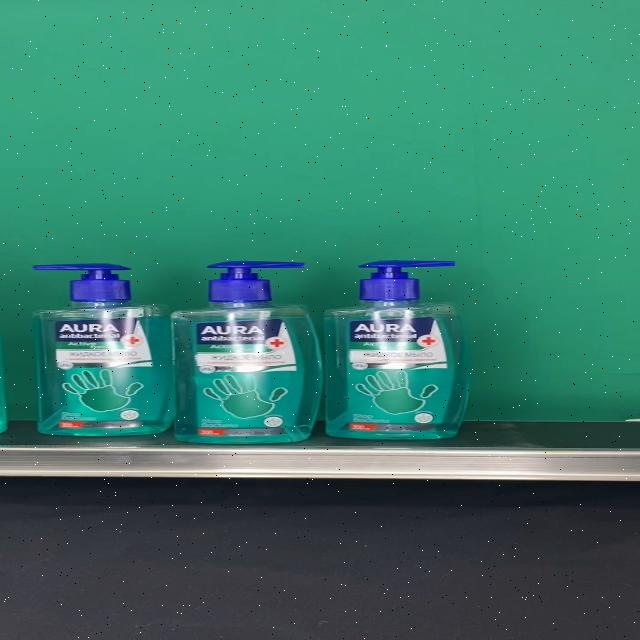Bottle: (172, 259, 324, 444), (322, 259, 471, 440), (30, 264, 179, 434)
Cap: (206, 260, 305, 302), (356, 259, 455, 300), (32, 263, 130, 301)
